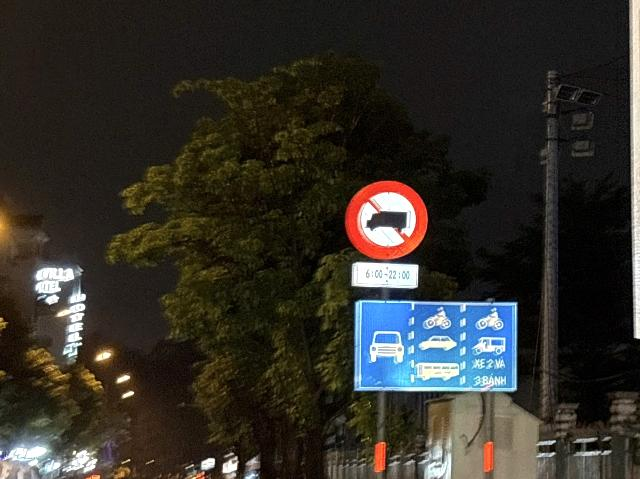cam-xe-tai: (345, 181, 428, 260)
